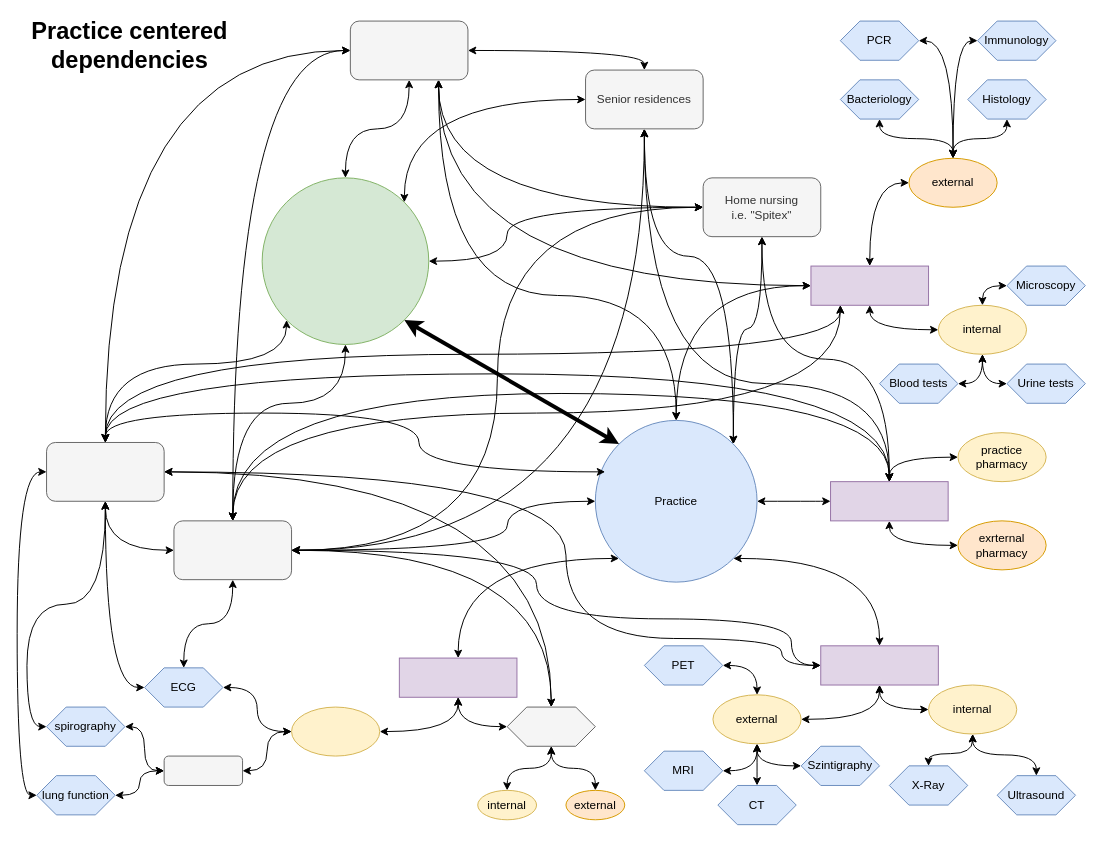
Some shapes in this 1103 by 842 pixel diagram are drawn without their labels. The box of each missing label's shape, as (x1, y1, x2, y2) in pixels:
Functional diagnostics: (398, 657, 517, 697)
Hospitals: (173, 520, 292, 580)
in house: (291, 706, 380, 756)
Insurance: (349, 20, 468, 80)
Laboratory tests: (810, 265, 929, 305)
lung tests: (163, 755, 243, 785)
Medical imaging: (820, 645, 938, 685)
Medical therapy: (830, 481, 948, 521)
Patient: (261, 177, 429, 344)
sleep diagnostics: (506, 706, 595, 746)
Spacialists: (46, 441, 164, 501)
